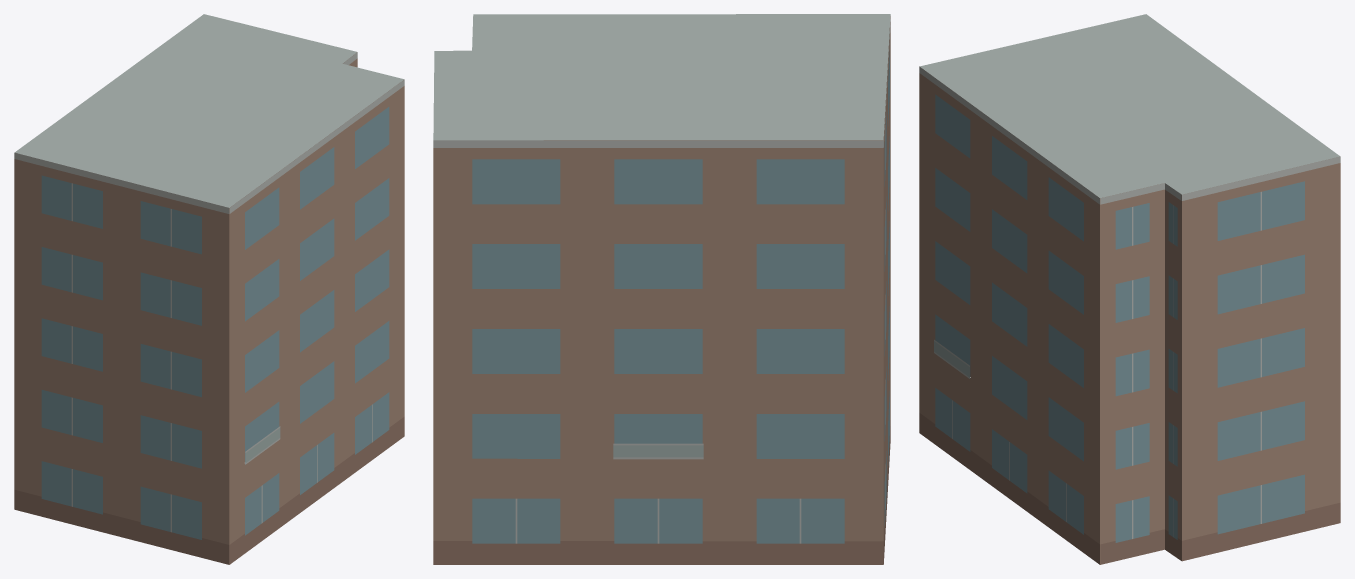
The model's file is survey-upis-32838954.glb.
3 views of the same model, side by side, from view 1: azimuth 30°, elevation 25°; view 2: azimuth 150°, elevation 25°; view 3: azimuth 270°, elevation 25° (orthographic). The views are drawn at different scales.
Parts seen in each view (by area): view 1: survey-upis-32838954.tmp; view 2: survey-upis-32838954.tmp; view 3: survey-upis-32838954.tmp.
Part boxes in pixels (bbox=[...]): survey-upis-32838954.tmp: bbox=[14, 14, 404, 564]; survey-upis-32838954.tmp: bbox=[433, 14, 890, 564]; survey-upis-32838954.tmp: bbox=[919, 14, 1340, 564].
Bounding box in the file's own units: 14.83 × 13.75 × 14.32.
